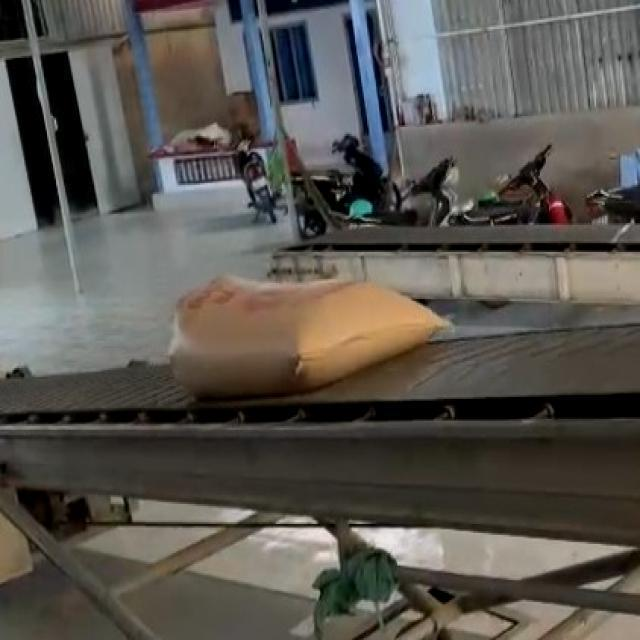gunny_bag: (171, 277, 449, 399)
